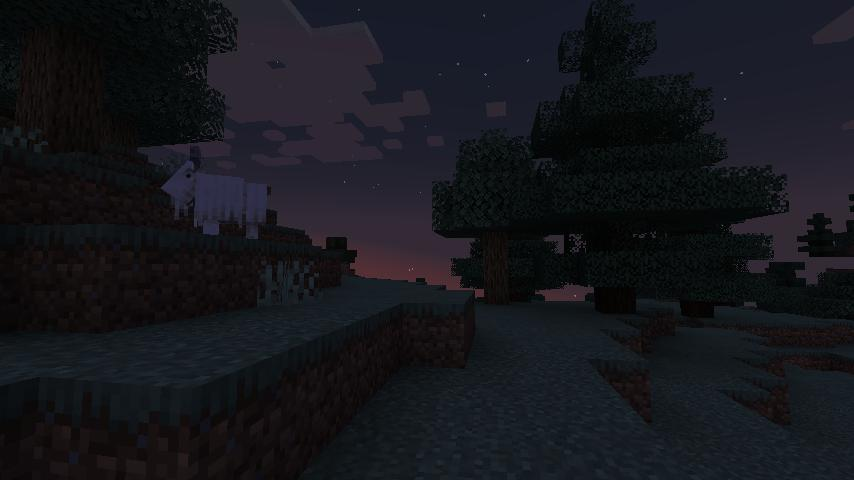goat: (160, 144, 274, 238)
